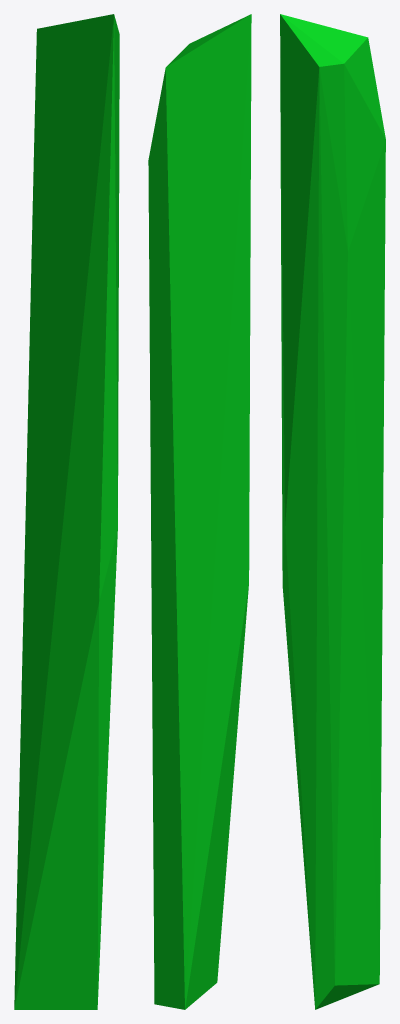
The model's file is recycle_bin_convex_piece_005.obj.
3 views of the same model, side by side, from view 1: azimuth 90°, elevation 25°; view 2: azimuth 150°, elevation 25°; view 3: azimuth 330°, elevation 25° (orthographic). The views are drawn at different scales.
Size of the model in its own units: 0.0376 by 0.4998 by 0.0473.
